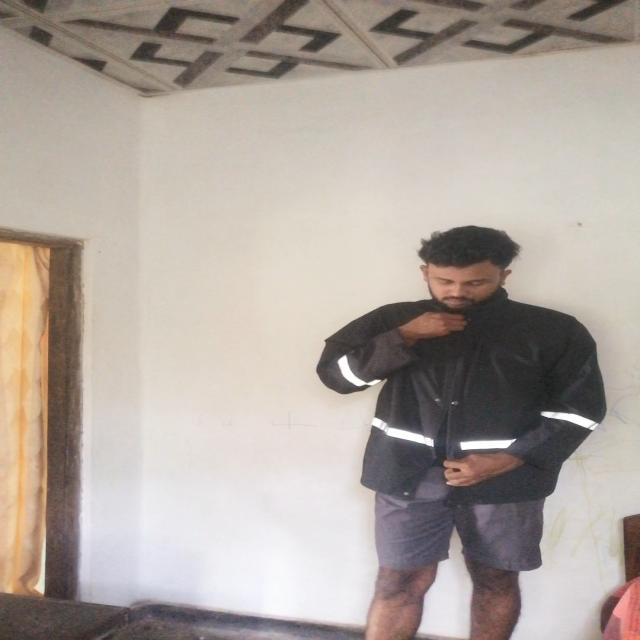Jacket_Wearer: (290, 284, 634, 500)
